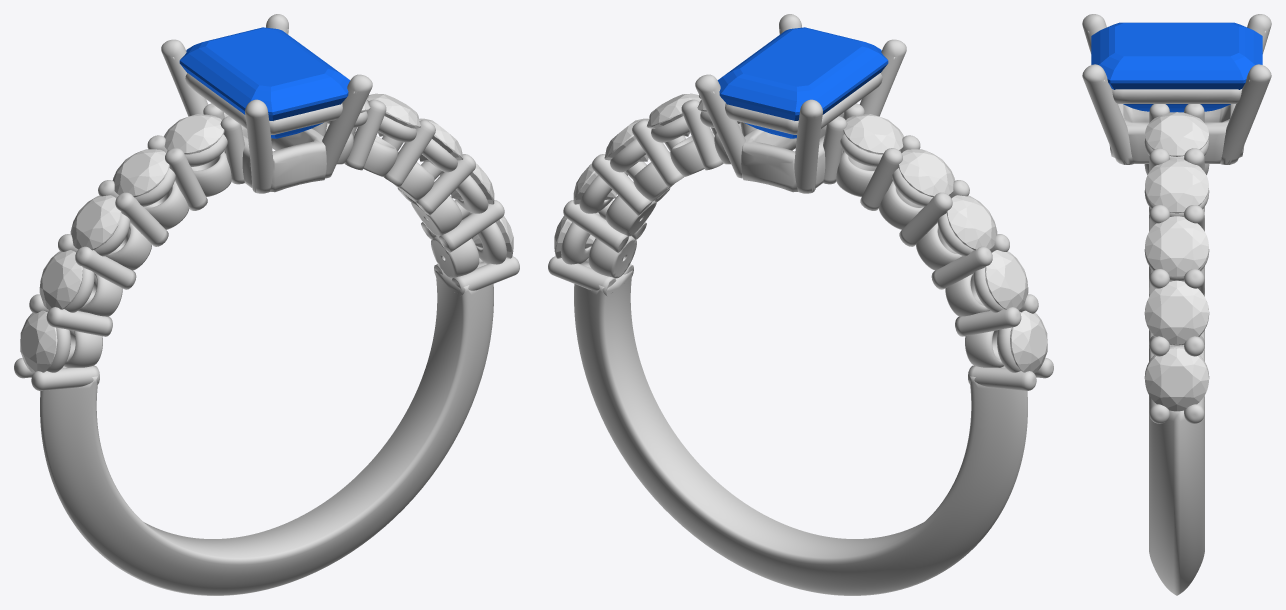
Rendered from bluesapphire-emerald-platinum-4prong-knifeedge-11stone.glb.
The picture shows the model from 3 angles, left to right: view 1: azimuth 30°, elevation 25°; view 2: azimuth 150°, elevation 25°; view 3: azimuth 270°, elevation 25°; orthographic projection.
Visible parts, largest first — view 1: metal, stone, side.004, side.003, side.005, side, side.006, side.010; view 2: metal, stone, side.004, side.003, side.005, side, side.006, side.010; view 3: metal, stone, side.008, side.007, side.009, side.010, side.011.
Part boxes in pixels (<box>): metal: <box>14,14,519,595</box>; stone: <box>179,27,350,138</box>; side.004: <box>70,195,121,250</box>; side.003: <box>39,250,82,309</box>; side.005: <box>112,149,169,197</box>; side: <box>20,310,57,372</box>; side.006: <box>163,114,224,154</box>; side.010: <box>366,93,420,136</box>; metal: <box>548,14,1053,595</box>; stone: <box>717,27,888,138</box>; side.004: <box>946,195,997,250</box>; side.003: <box>985,250,1028,309</box>; side.005: <box>898,149,955,197</box>; side: <box>1010,310,1047,372</box>; side.006: <box>843,114,904,154</box>; side.010: <box>647,93,701,136</box>; metal: <box>1082,14,1271,595</box>; stone: <box>1091,22,1262,112</box>; side.008: <box>1145,280,1208,344</box>; side.007: <box>1145,348,1208,411</box>; side.009: <box>1145,216,1208,277</box>; side.010: <box>1145,158,1208,213</box>; side.011: <box>1145,112,1208,156</box>.
Size of the model in its own units: 21.87 by 22.94 by 7.4.
